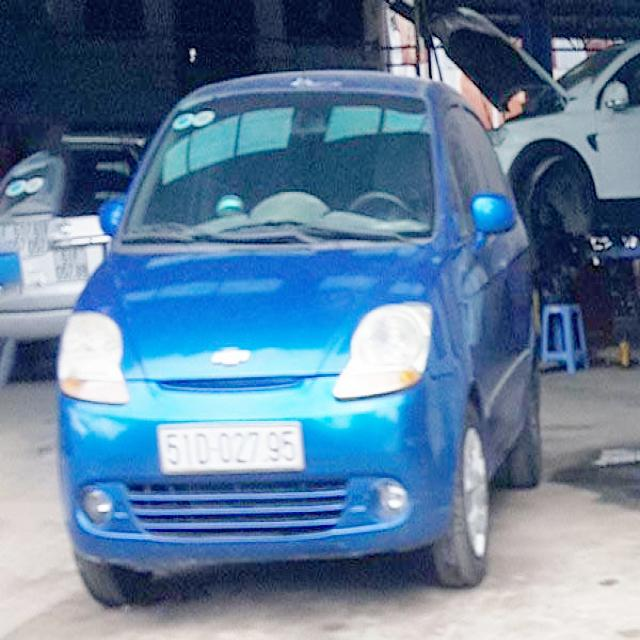license_plate: (160, 422, 305, 473)
